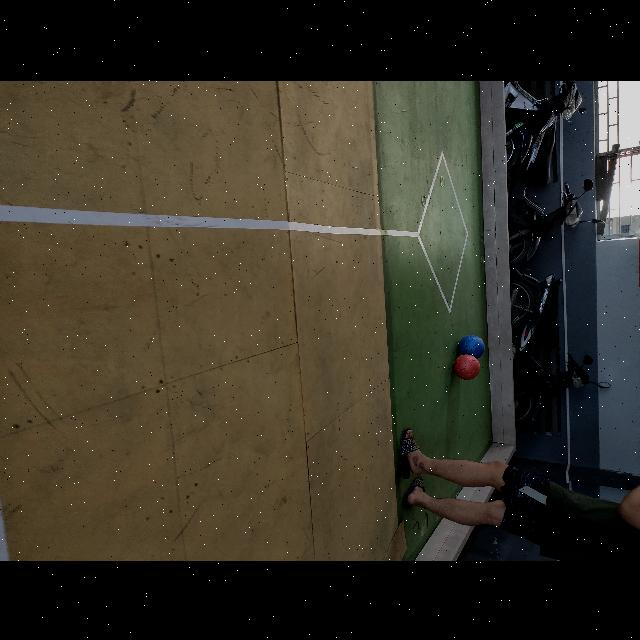B: (458, 334, 484, 358)
R: (453, 354, 480, 379)
